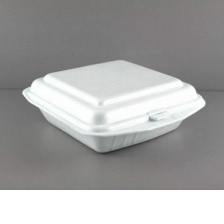foam_box: (18, 55, 208, 156)
